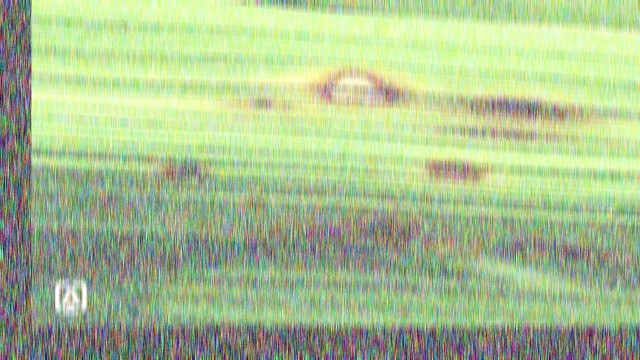Bacterial_Leaf_Blight: (454, 91, 609, 134), (309, 58, 413, 108), (323, 213, 445, 250), (416, 145, 500, 184), (149, 157, 226, 182)
